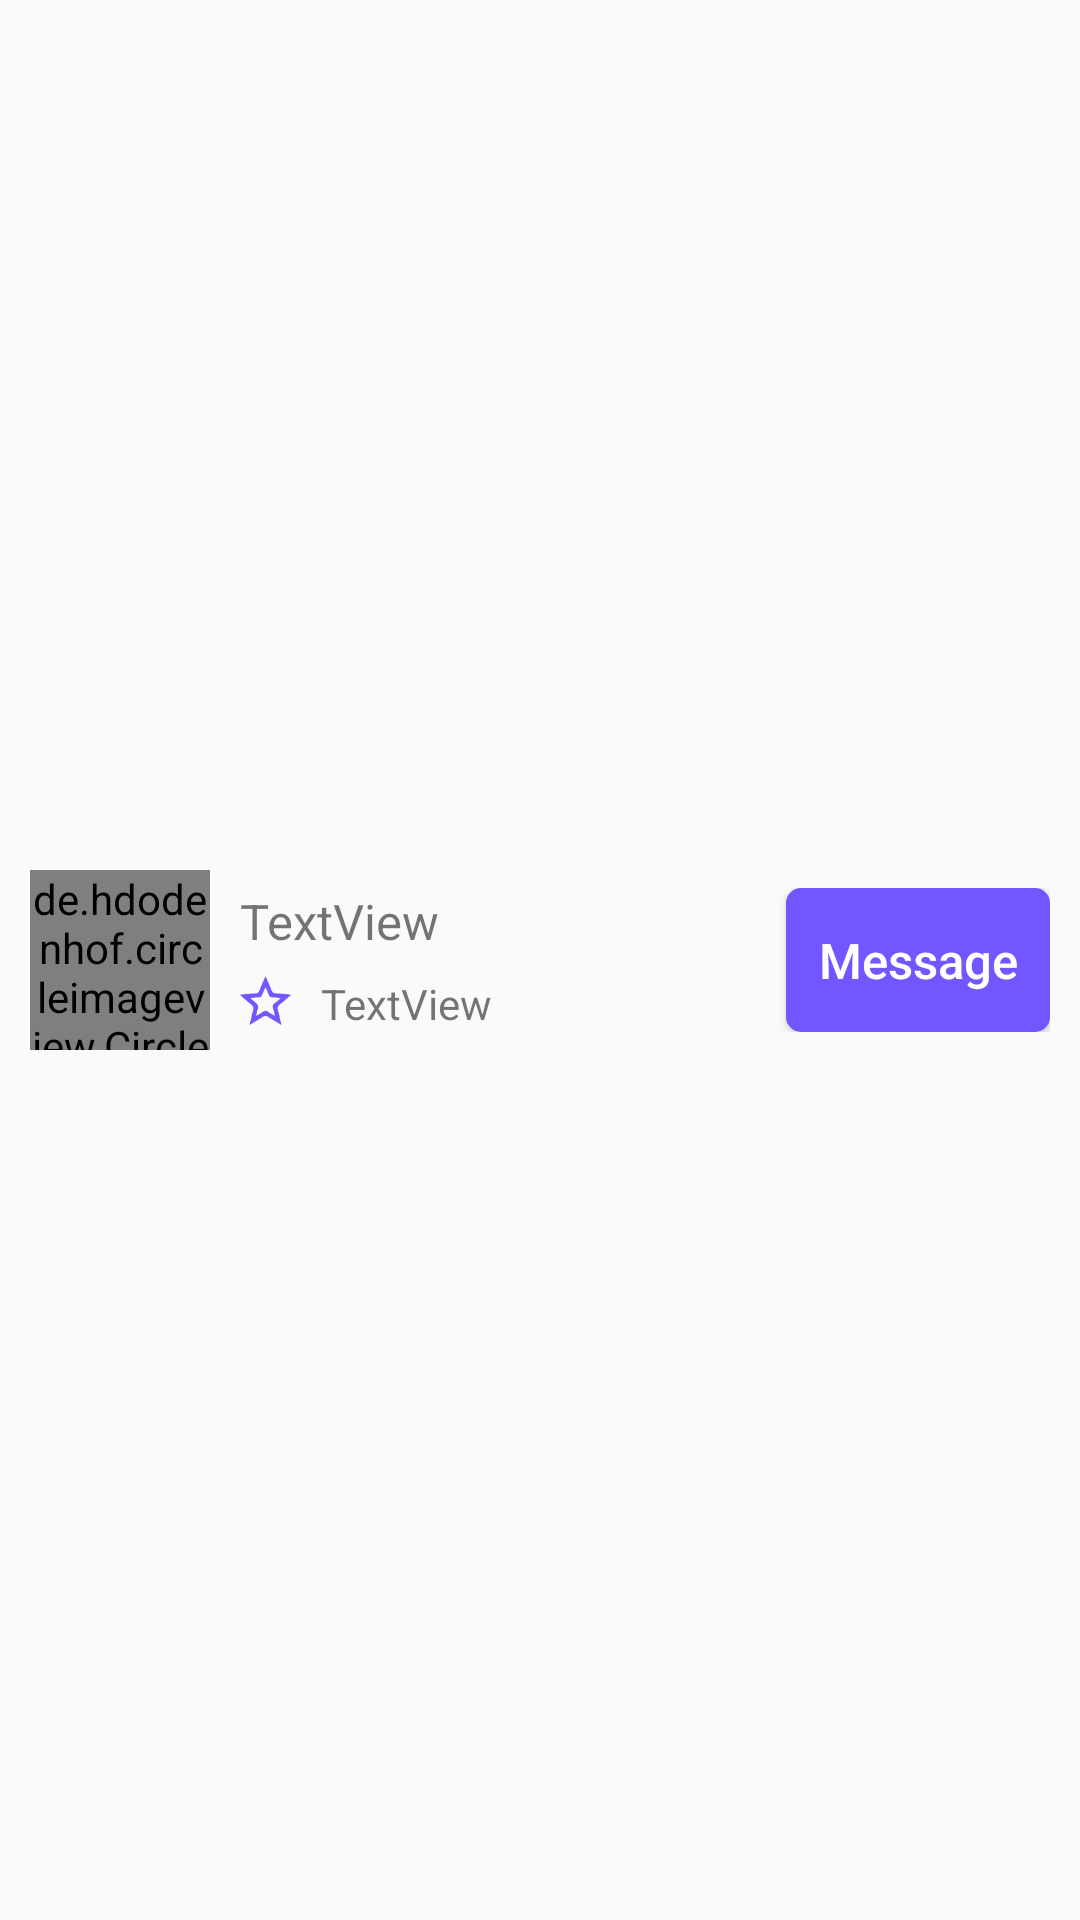

Where icons sit on this 1080x1920 app screen, as (x1, y1, x2, y2):
star: (240, 976, 291, 1025)
